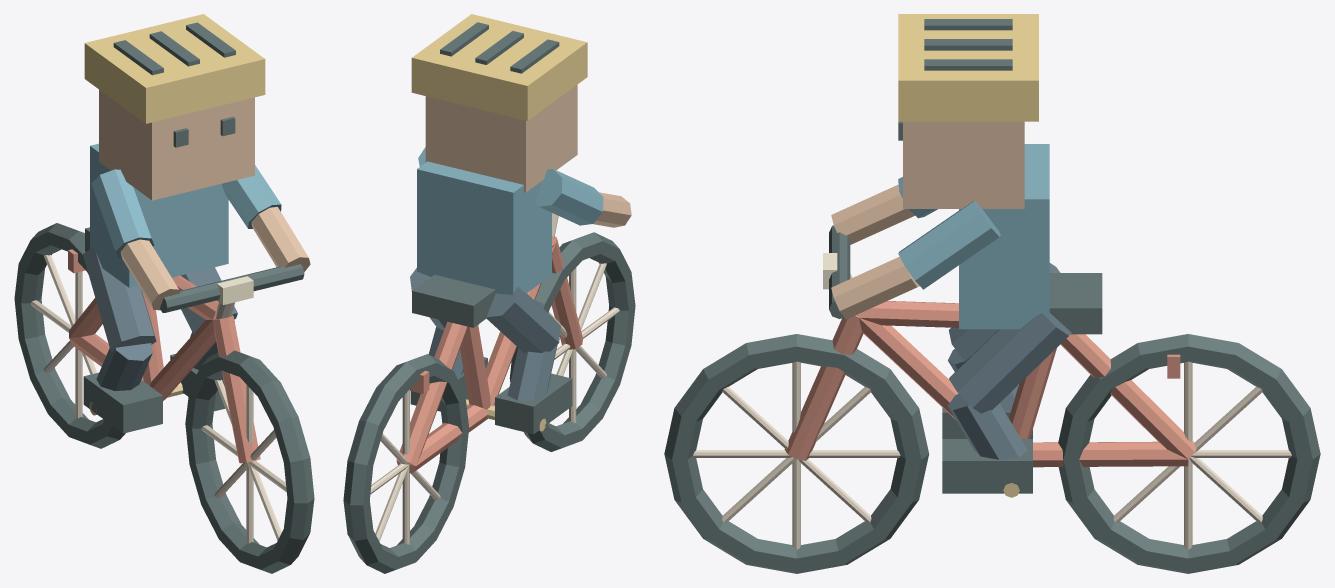
File: bike.glb
3 renders of one model, left to right at view 1: azimuth 30°, elevation 25°; view 2: azimuth 150°, elevation 25°; view 3: azimuth 270°, elevation 25°, orthographic. The views are drawn at different scales.
Parts seen in each view (by area): view 1: Bicycle wheel.002, rider_helmet.001, rider_riderSkin.001, rider_riderShirt.001, Bicycle wheel.003, rider_black.001, Cylinder.060, Cylinder.058, Cylinder.054, Cylinder.059, Cylinder.063, Cylinder.056 (+14 smaller); view 2: rider_riderShirt.001, Bicycle wheel.003, rider_helmet.001, rider_riderSkin.001, Bicycle wheel.002, rider_black.001, bike_black.001, Cylinder.060, Cylinder.058, Cylinder.051, Cylinder.061, Cylinder.050 (+10 smaller); view 3: Bicycle wheel.002, Bicycle wheel.003, rider_helmet.001, rider_riderShirt.001, rider_riderSkin.001, rider_black.001, Cylinder.064, Cylinder.062, Cylinder.051, Cylinder.054, Cylinder.049, bike_black.001 (+9 smaller).
Part boxes in pixels (left/top/right/bottom): Bicycle wheel.002: left=185, top=350, right=314, bottom=573; rider_helmet.001: left=84, top=14, right=265, bottom=123; rider_riderSkin.001: left=99, top=89, right=254, bottom=200; rider_riderShirt.001: left=90, top=143, right=228, bottom=287; Bicycle wheel.003: left=14, top=223, right=125, bottom=448; rider_black.001: left=83, top=22, right=235, bottom=433; Cylinder.060: left=83, top=247, right=156, bottom=352; Cylinder.058: left=91, top=169, right=154, bottom=258; Cylinder.054: left=213, top=315, right=260, bottom=463; Cylinder.059: left=120, top=239, right=179, bottom=310; Cylinder.063: left=251, top=207, right=310, bottom=272; Cylinder.056: left=160, top=264, right=304, bottom=312; rider_riderShirt.001: left=417, top=161, right=551, bottom=294; Bicycle wheel.003: left=343, top=354, right=469, bottom=573; rider_helmet.001: left=411, top=14, right=587, bottom=120; rider_riderSkin.001: left=425, top=84, right=577, bottom=192; Bicycle wheel.002: left=509, top=232, right=635, bottom=451; rider_black.001: left=410, top=22, right=572, bottom=434; bike_black.001: left=412, top=274, right=495, bottom=327; Cylinder.060: left=486, top=287, right=560, bottom=352; Cylinder.058: left=535, top=169, right=603, bottom=225; Cylinder.051: left=396, top=321, right=467, bottom=466; Cylinder.061: left=507, top=345, right=557, bottom=400; Cylinder.050: left=460, top=325, right=490, bottom=409; Bicycle wheel.002: left=664, top=334, right=928, bottom=573; Bicycle wheel.003: left=1058, top=334, right=1320, bottom=573; rider_helmet.001: left=898, top=14, right=1038, bottom=121; rider_riderShirt.001: left=959, top=144, right=1049, bottom=329; rider_riderSkin.001: left=903, top=121, right=1024, bottom=208; rider_black.001: left=898, top=19, right=1032, bottom=493; Cylinder.064: left=949, top=313, right=1071, bottom=413; Cylinder.062: left=898, top=200, right=1000, bottom=289; Cylinder.051: left=1060, top=334, right=1196, bottom=459; Cylinder.054: left=784, top=315, right=863, bottom=460; Cylinder.049: left=1033, top=441, right=1188, bottom=467; bike_black.001: left=1049, top=273, right=1102, bottom=334.
Size of the model in its own units: 0.9176 by 2.46 by 2.75.
